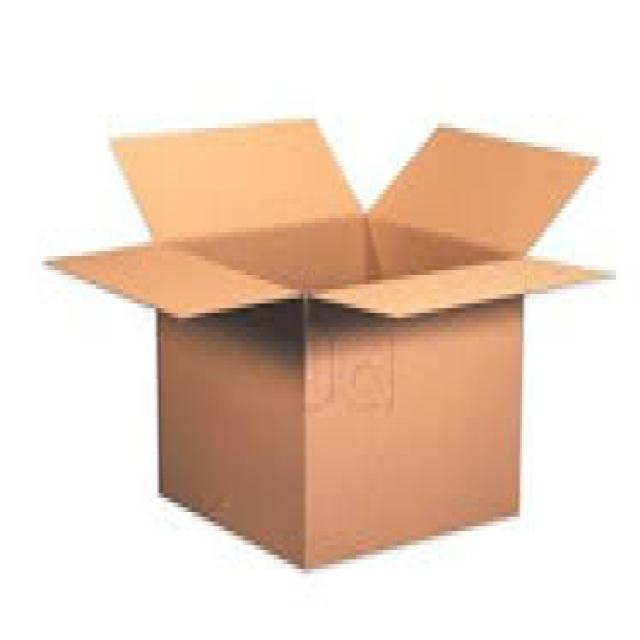cardboard: (47, 123, 615, 569)
